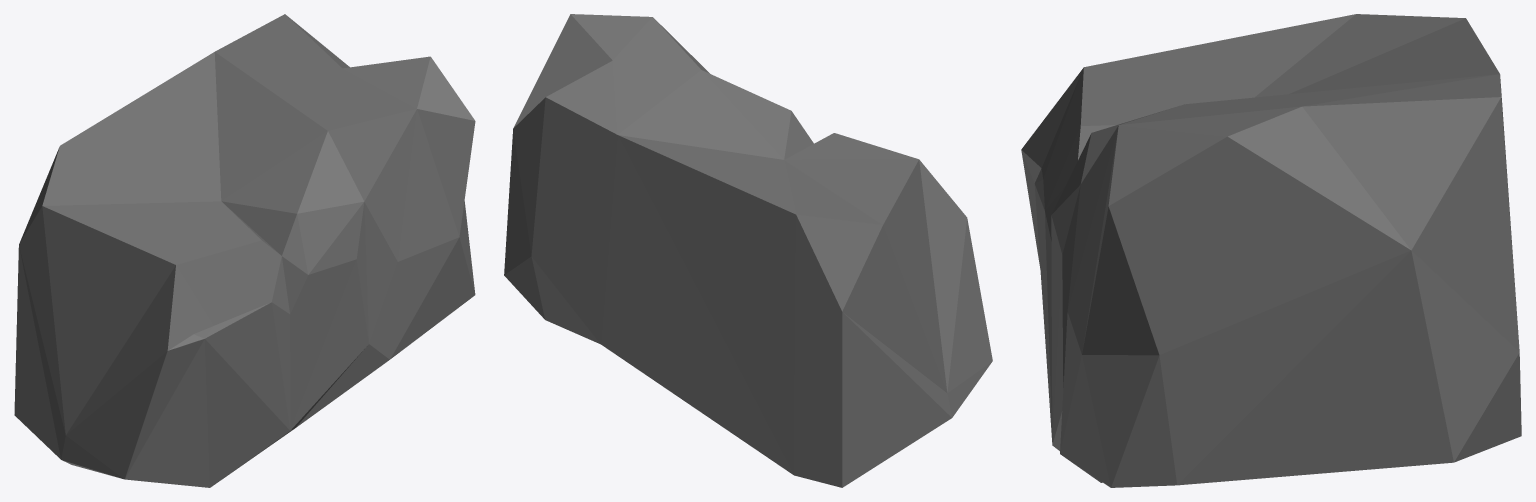
Rendered from rock_003.glb.
3 views of the same model, side by side, from view 1: azimuth 30°, elevation 25°; view 2: azimuth 150°, elevation 25°; view 3: azimuth 270°, elevation 25° (orthographic). The views are drawn at different scales.
Visible parts, largest first — view 1: rock_003; view 2: rock_003; view 3: rock_003.
Part boxes in pixels (x1=…): rock_003: x1=14, y1=14, x2=475, y2=487; rock_003: x1=504, y1=14, x2=992, y2=487; rock_003: x1=1021, y1=14, x2=1521, y2=487.
Size of the model in its own units: 26.01 by 21.16 by 18.1.
1 material, 1 textured.
